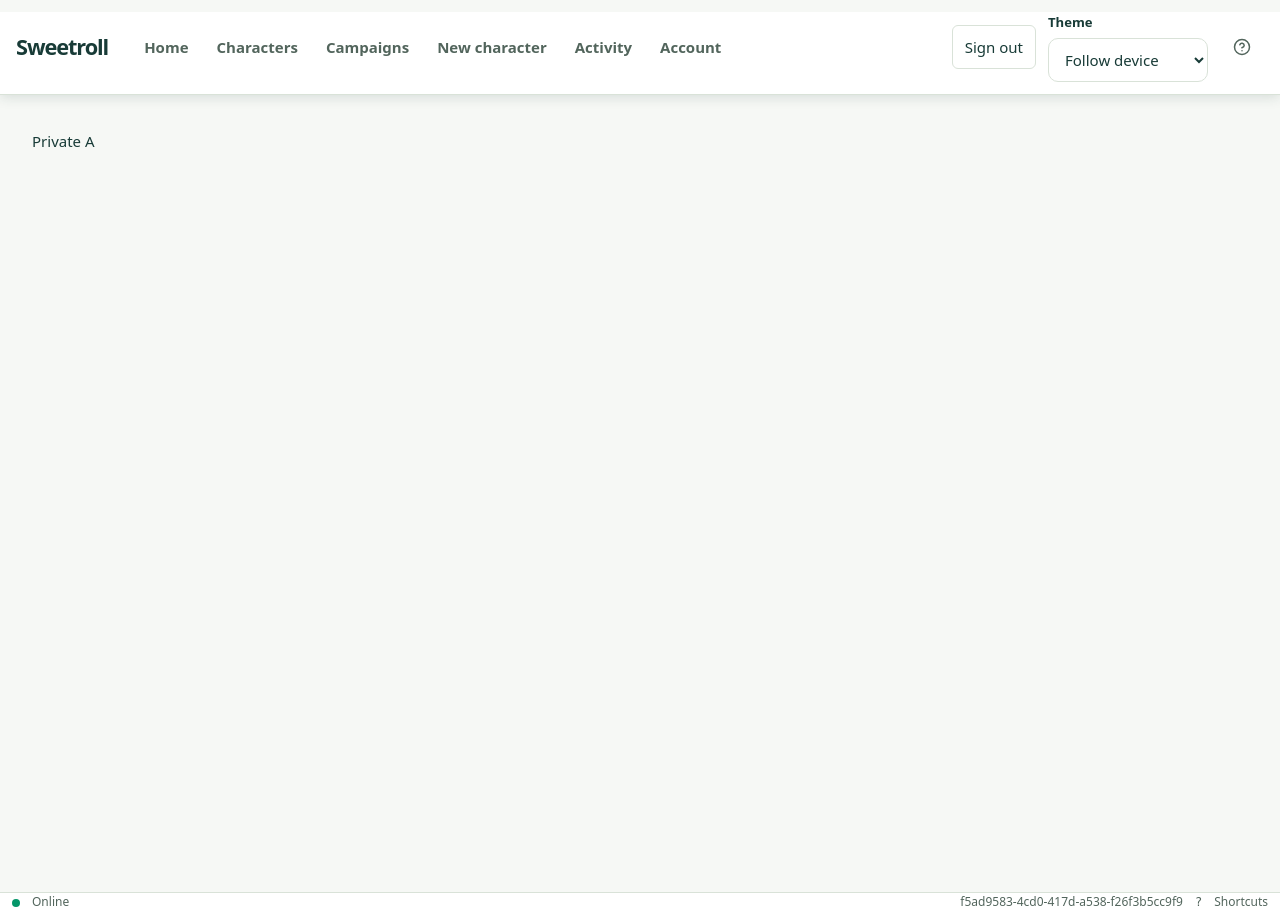
it: AppShell › null→actor settle refetches under the fresh lifetime and leaks no account-A cache into account B
Check: the text with test id "account-label" reads "Private A", box [32, 131, 94, 151]
Click the button "Sign out" at (994, 47), box [952, 25, 1036, 69]
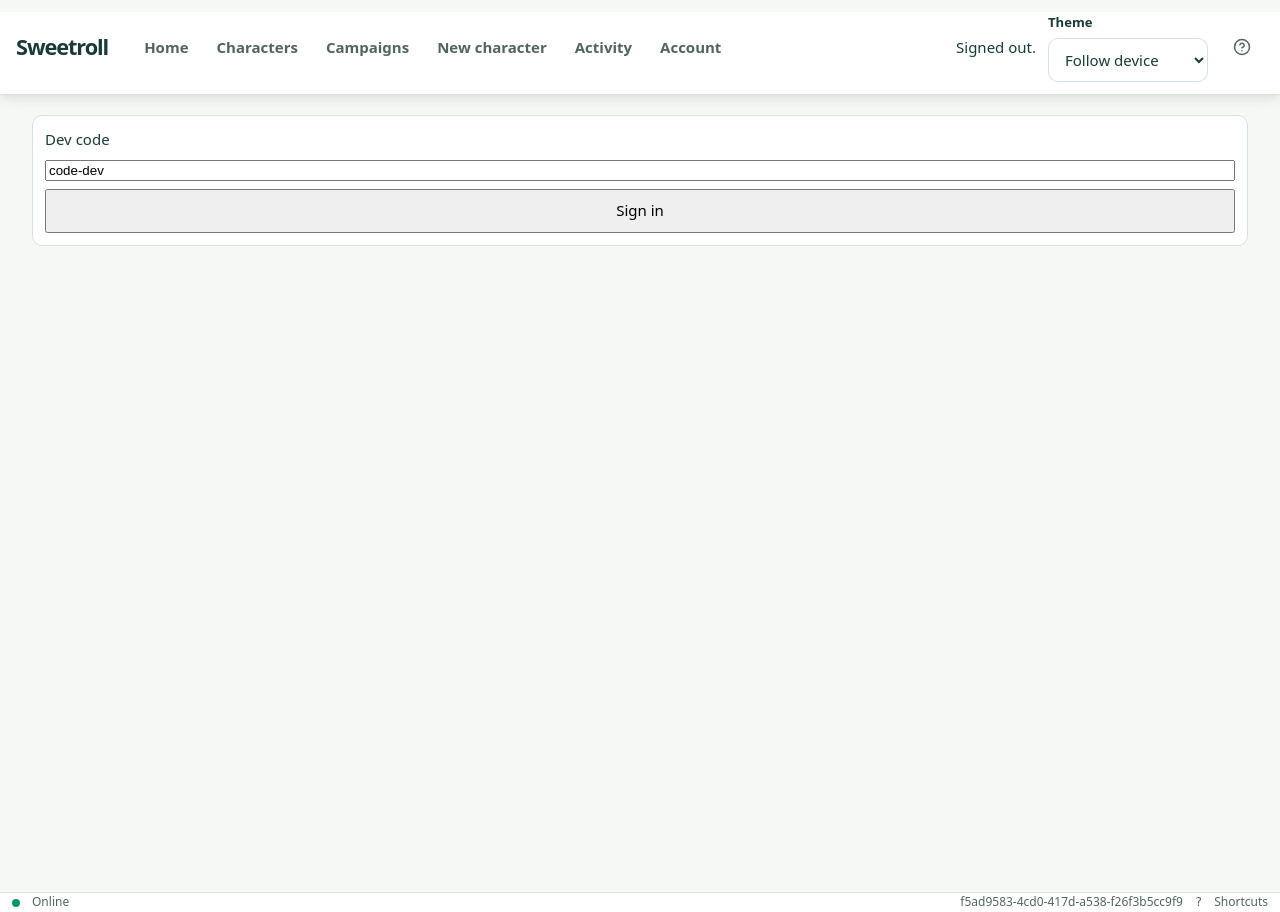
Check: the button with test id "dev-signin" is shown
Check: the text "Signed out." is shown, box [956, 36, 1036, 59]
Click the button with test id "dev-signin" at (640, 211), box [45, 189, 1235, 233]
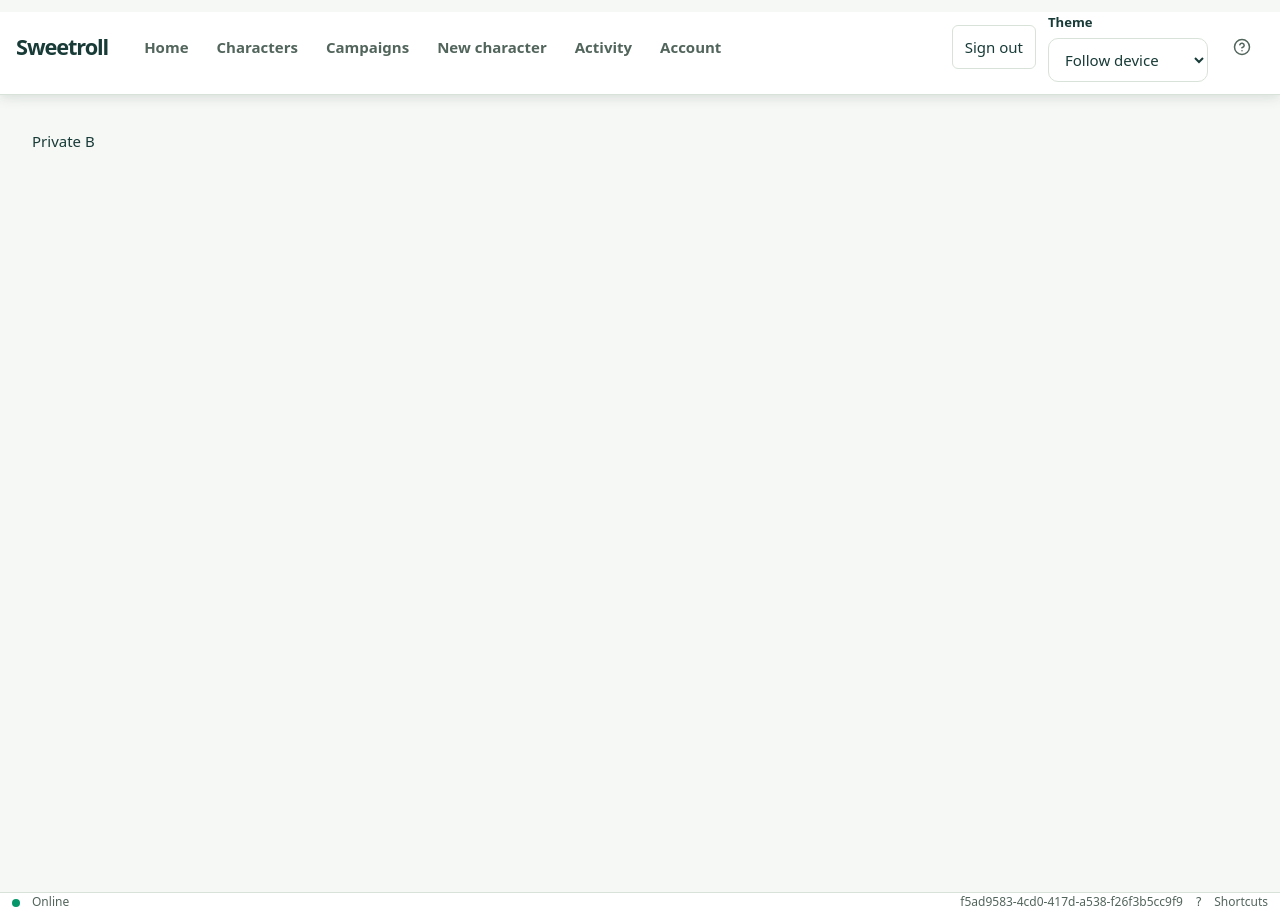
Check: the text "Private A" is not shown
Check: the text "Private B" is shown, box [32, 131, 95, 151]
Check: the text "Signed out." is gone
